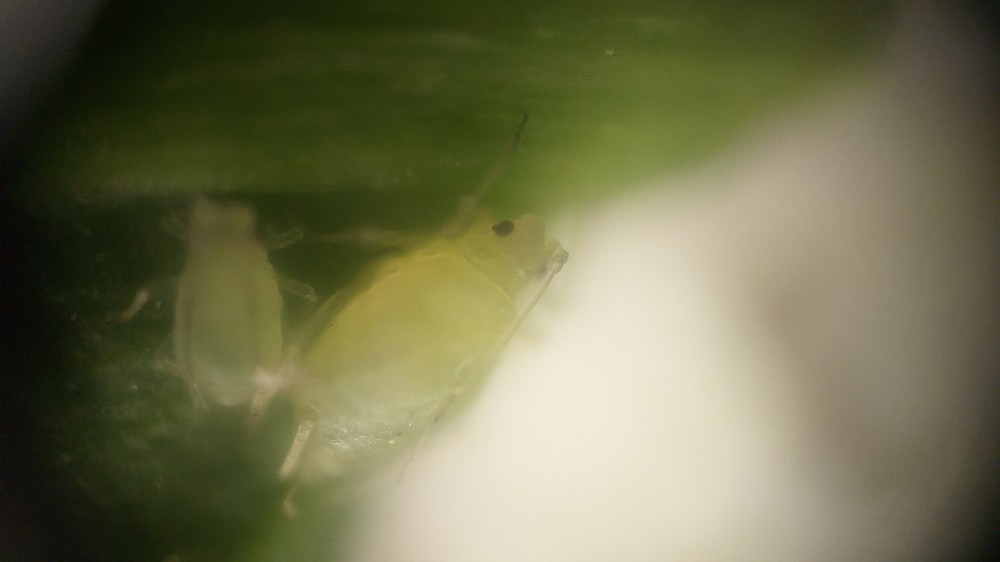Pulgon: (266, 124, 581, 529), (136, 174, 302, 419)
